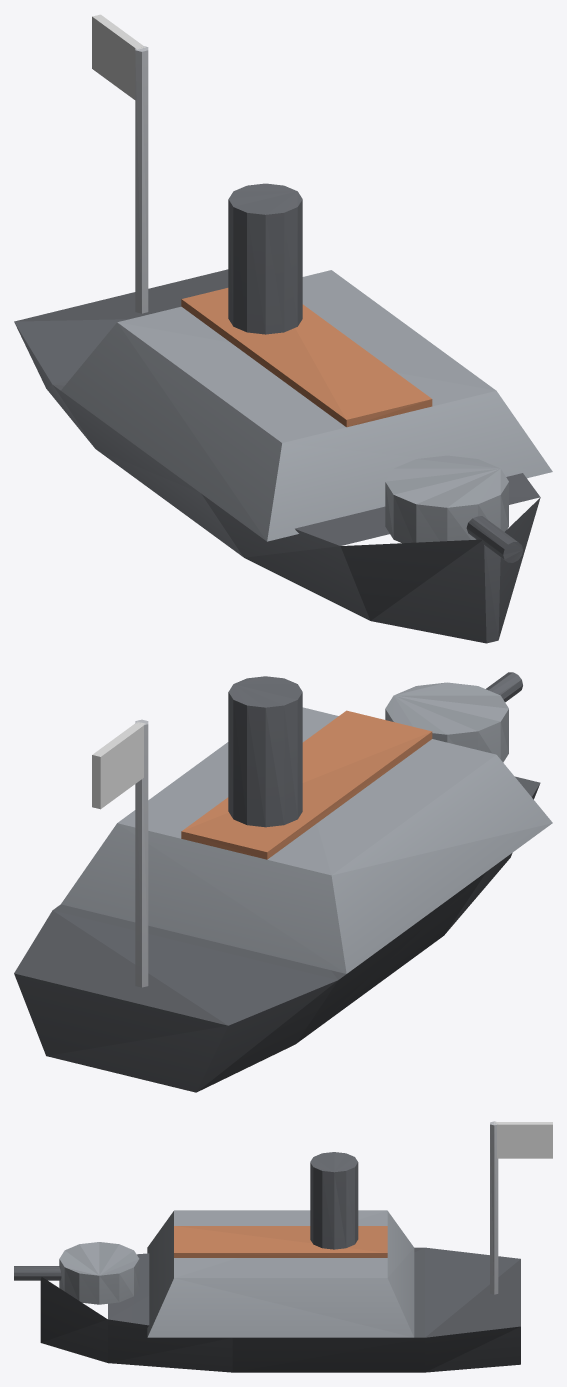
The model's file is Ironclad.glb.
3 views of the same model, one above another, from view 1: azimuth 30°, elevation 25°; view 2: azimuth 150°, elevation 25°; view 3: azimuth 270°, elevation 25° (orthographic). The views are drawn at different scales.
Visible parts, largest first — view 1: Body; view 2: Body; view 3: Body.
Boxes of the visible parts, x1=… form: Body: x1=14, y1=14, x2=552, y2=643; Body: x1=14, y1=672, x2=552, y2=1092; Body: x1=14, y1=1121, x2=552, y2=1372.
Size of the model in its own units: 0.4 by 0.45 by 1.01.
